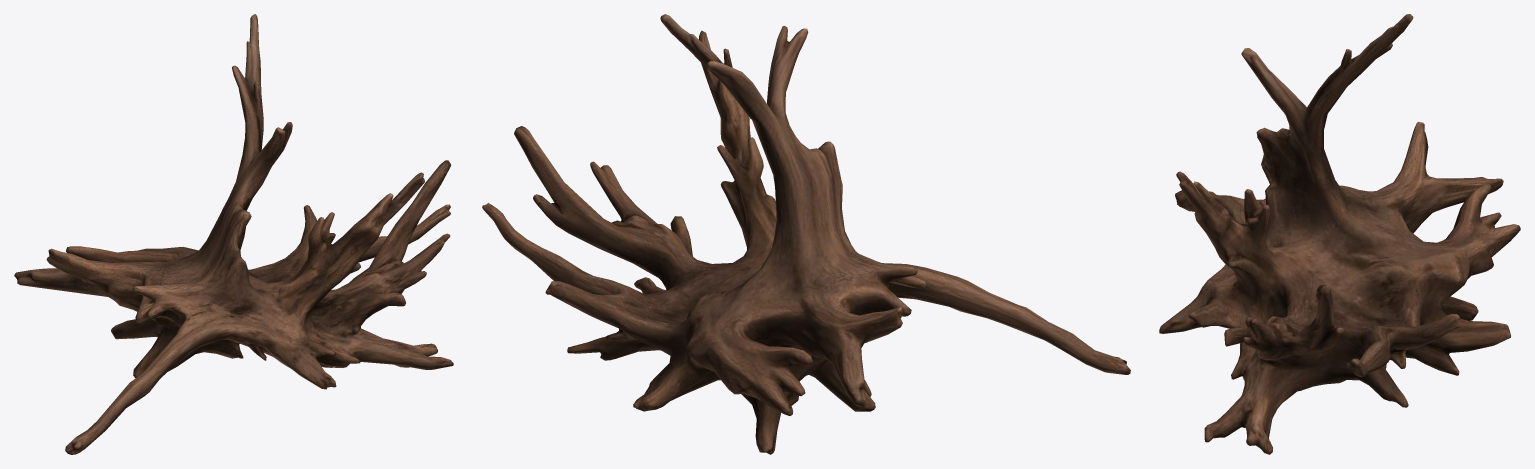
Rendered from driftwood-accent-02.glb.
3 renders of one model, left to right at view 1: azimuth 30°, elevation 25°; view 2: azimuth 150°, elevation 25°; view 3: azimuth 270°, elevation 25°, orthographic. The views are drawn at different scales.
Parts seen in each view (by area): view 1: Meshy_Mesh1.0; view 2: Meshy_Mesh1.0; view 3: Meshy_Mesh1.0.
Part boxes in pixels (x1,y1,x2,y2): Meshy_Mesh1.0: (14,14,453,454); Meshy_Mesh1.0: (482,14,1130,454); Meshy_Mesh1.0: (1159,14,1520,454).
Size of the model in its own units: 1.91 by 1.31 by 1.12.
Materials: 1 (1 with a texture image).
